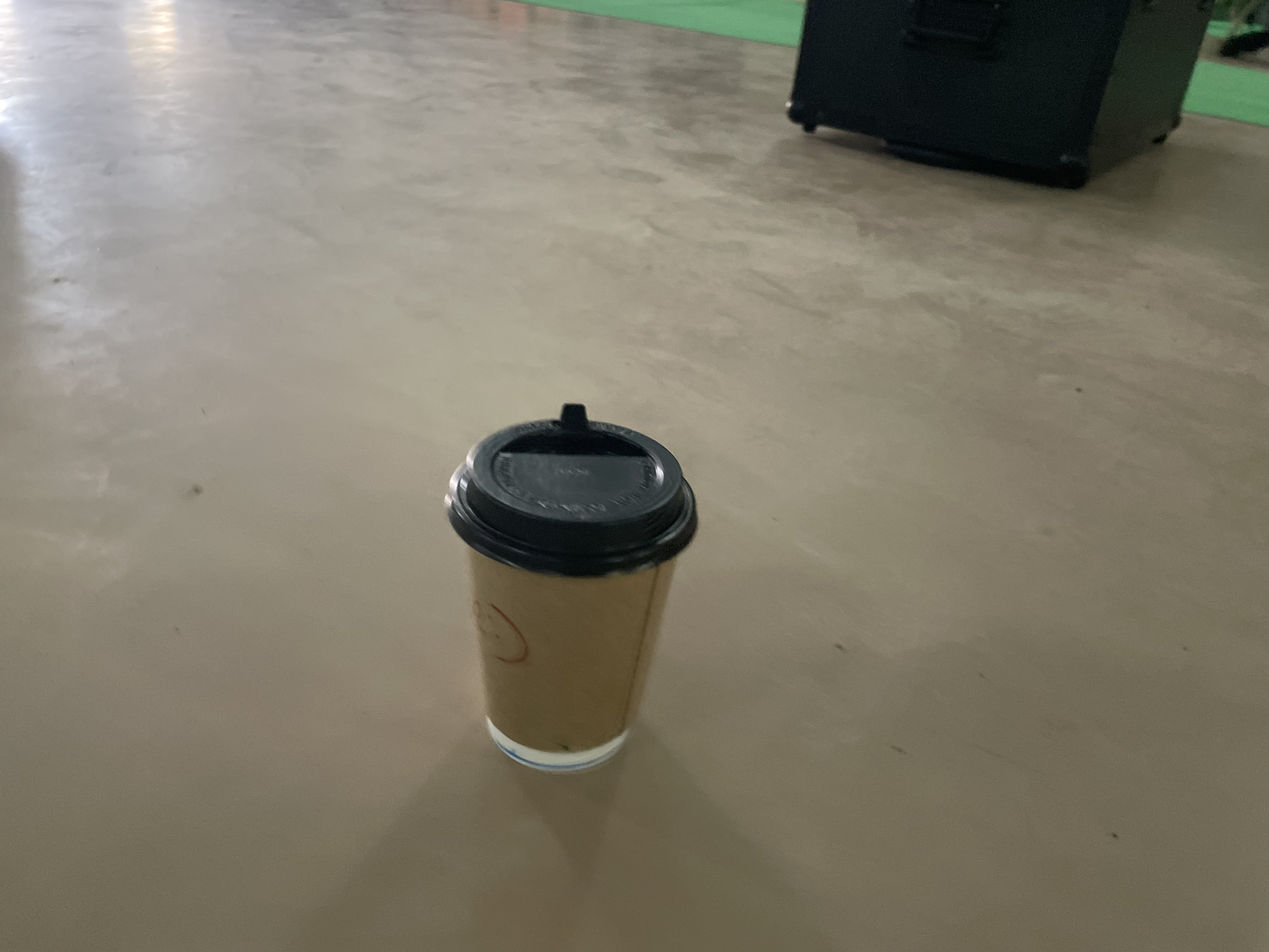cup: (447, 402, 697, 774)
